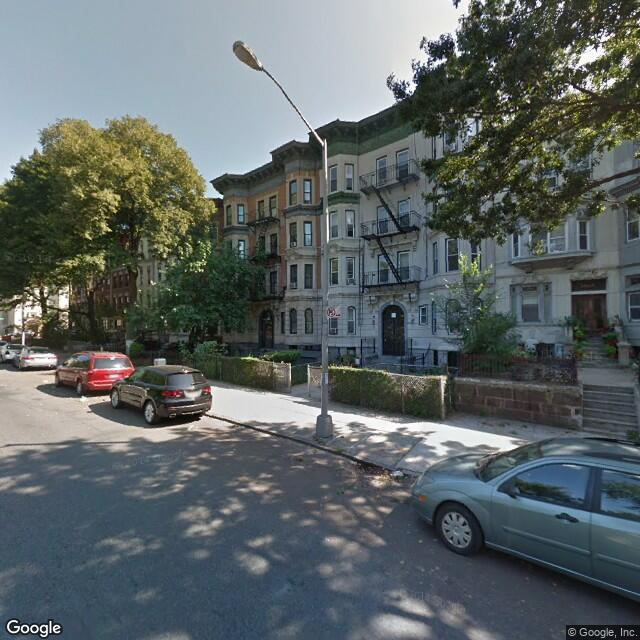litter: (357, 455, 406, 485)
